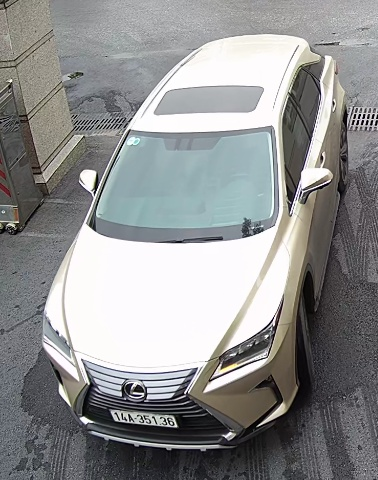vehicle plate: (105, 403, 182, 433)
